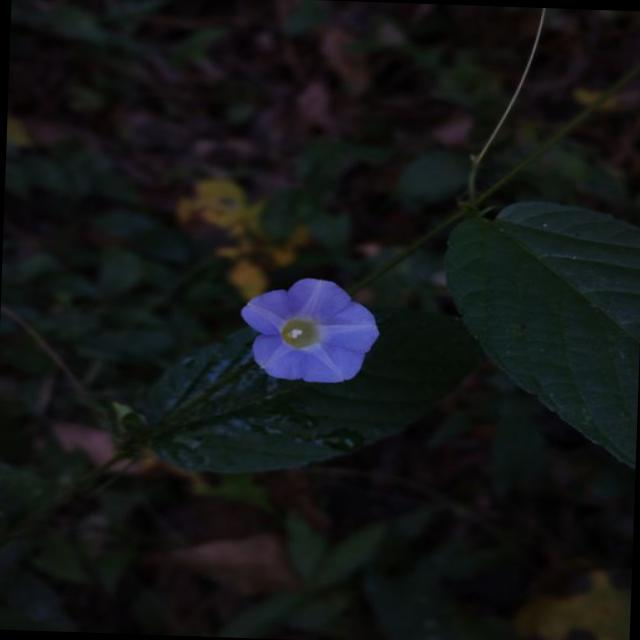ipomoea: (234, 272, 384, 388)
